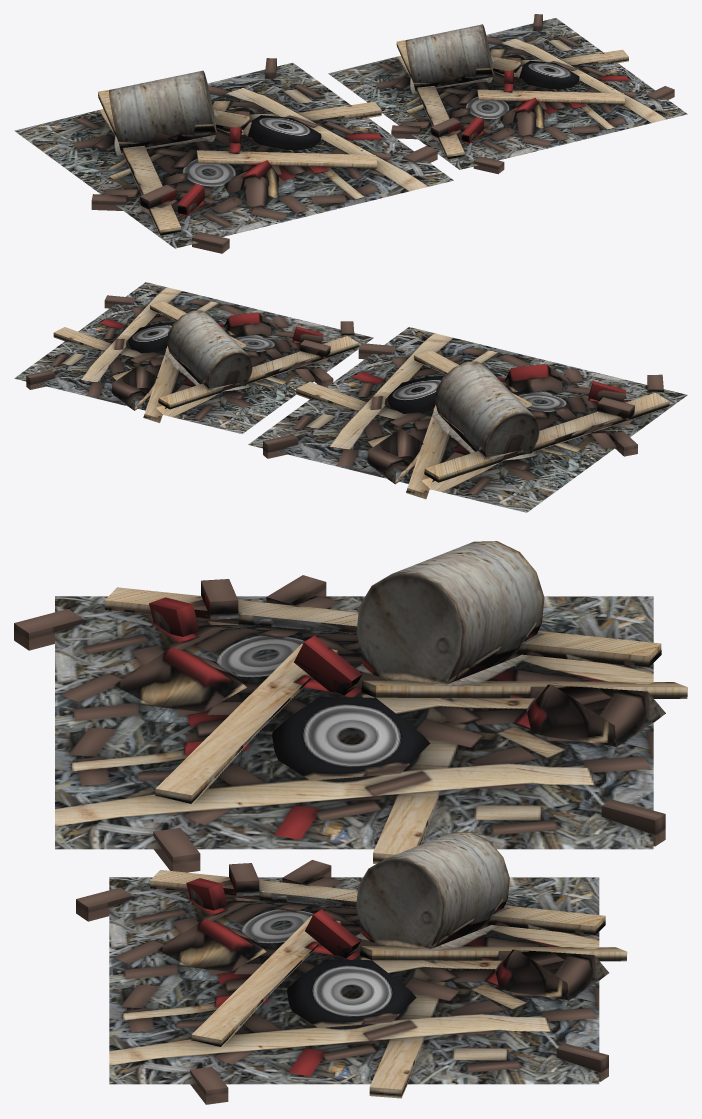
Rendered from ScrapPile.fbx.
The picture shows the model from 3 angles, top to bottom: view 1: azimuth 30°, elevation 25°; view 2: azimuth 150°, elevation 25°; view 3: azimuth 270°, elevation 25°; orthographic projection. The views are drawn at different scales.
Parts seen in each view (by area): view 1: Pile, Pile_small; view 2: Pile, Pile_small; view 3: Pile, Pile_small.
Part boxes in pixels (x1,y1,x2,y2): Pile: [14, 58, 453, 253]; Pile_small: [328, 14, 687, 174]; Pile: [248, 327, 687, 512]; Pile_small: [14, 282, 373, 433]; Pile: [14, 541, 687, 872]; Pile_small: [76, 832, 627, 1104].
Bounding box in the file's own units: 264 × 37.8 × 149.
1 material, 1 textured.
